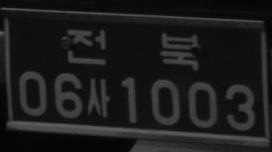0: (66, 28, 199, 70), (187, 81, 218, 129), (150, 78, 180, 126), (18, 69, 47, 116)
1: (117, 76, 142, 123)
3: (225, 82, 255, 132)
6: (52, 71, 83, 119)
사: (86, 77, 110, 119)
